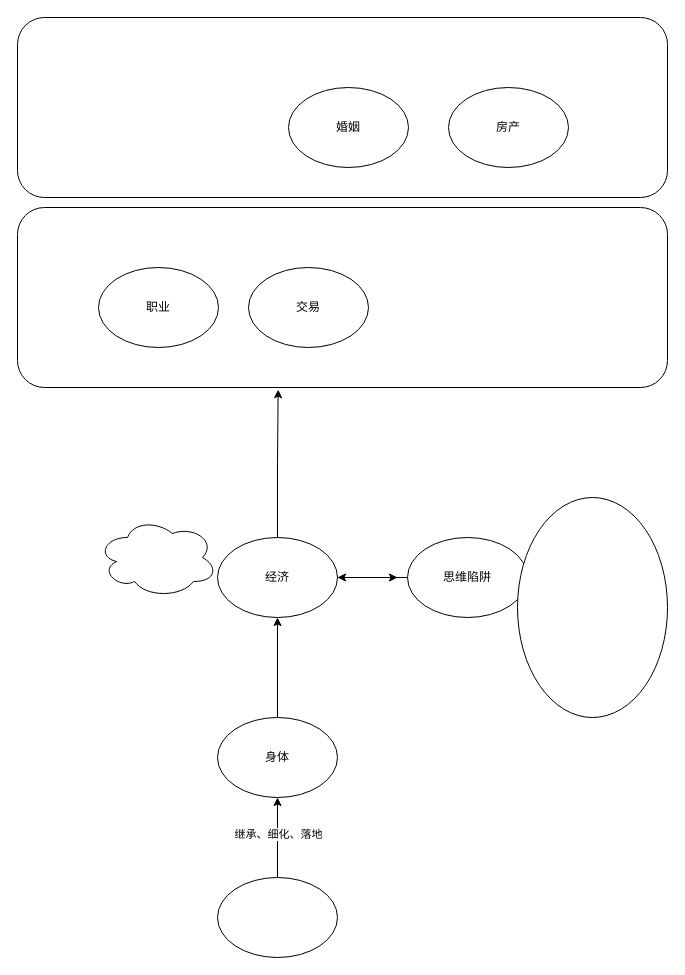
Some shapes in this 685 by 975 pixel diagram are drawn without their labels. The centre of each missing label's shape, as x and y in pixels:
"1.锚定效应 2.不客观，臆想， 3.趋势形成后不及时纠错 4.恐惧、贪婪" goes at pixel 592 607.
"2023模型" goes at pixel 277 917.
"新引入，核心 经济模型是对大环境把控，也是对上面模型的指引" goes at pixel 157 557.
